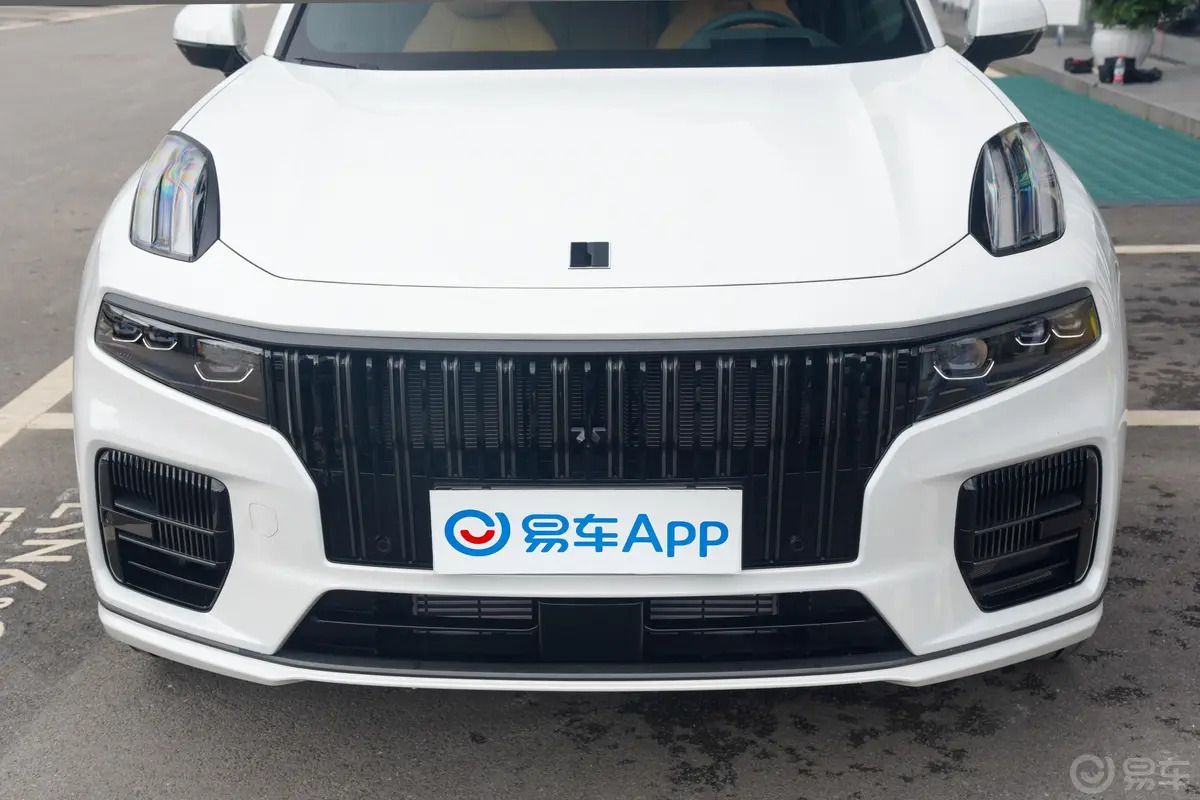LINK&CO: (571, 242, 609, 267)
